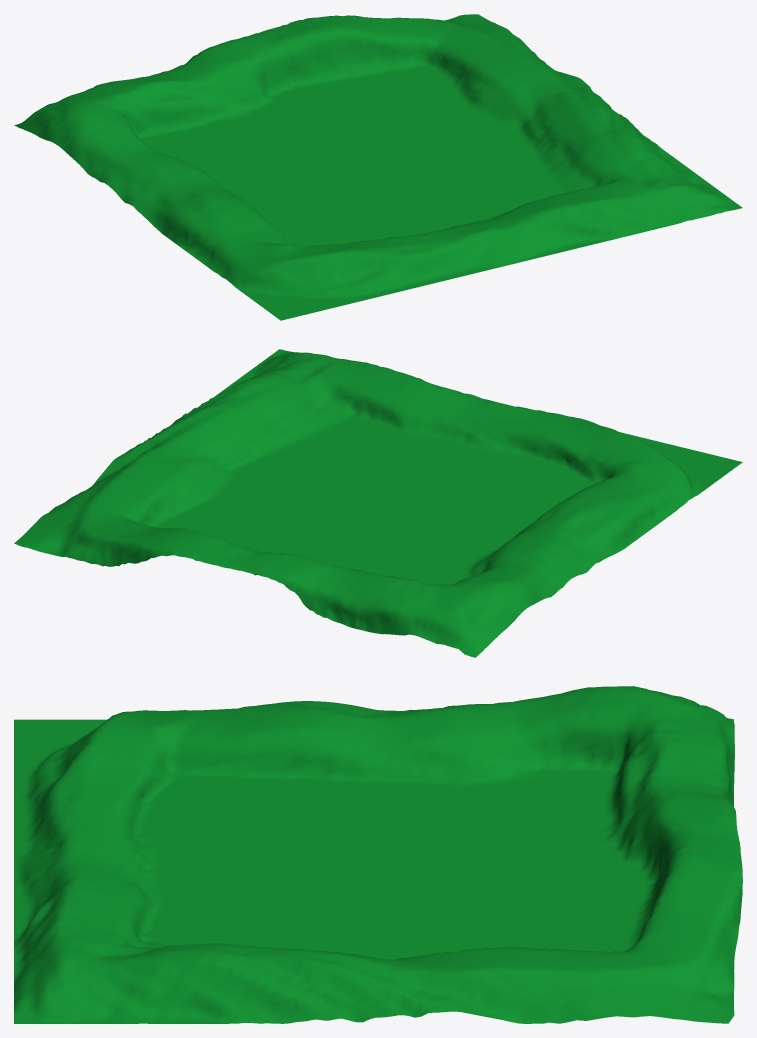
File: Environment.fbx
The picture shows the model from 3 angles, top to bottom: view 1: azimuth 30°, elevation 25°; view 2: azimuth 150°, elevation 25°; view 3: azimuth 270°, elevation 25°; orthographic projection. The views are drawn at different scales.
Visible parts, largest first — view 1: Plane; view 2: Plane; view 3: Plane.
Part boxes in pixels (bbox=[...]): Plane: bbox=[14, 14, 742, 320]; Plane: bbox=[14, 349, 742, 657]; Plane: bbox=[14, 686, 742, 1023].
Bounding box in the file's own units: 20216 × 1600 × 20250.
